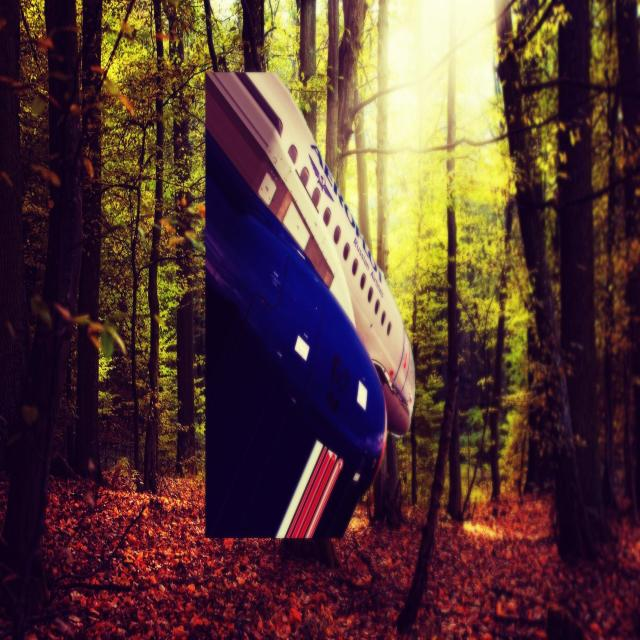airplane: (203, 68, 416, 543)
